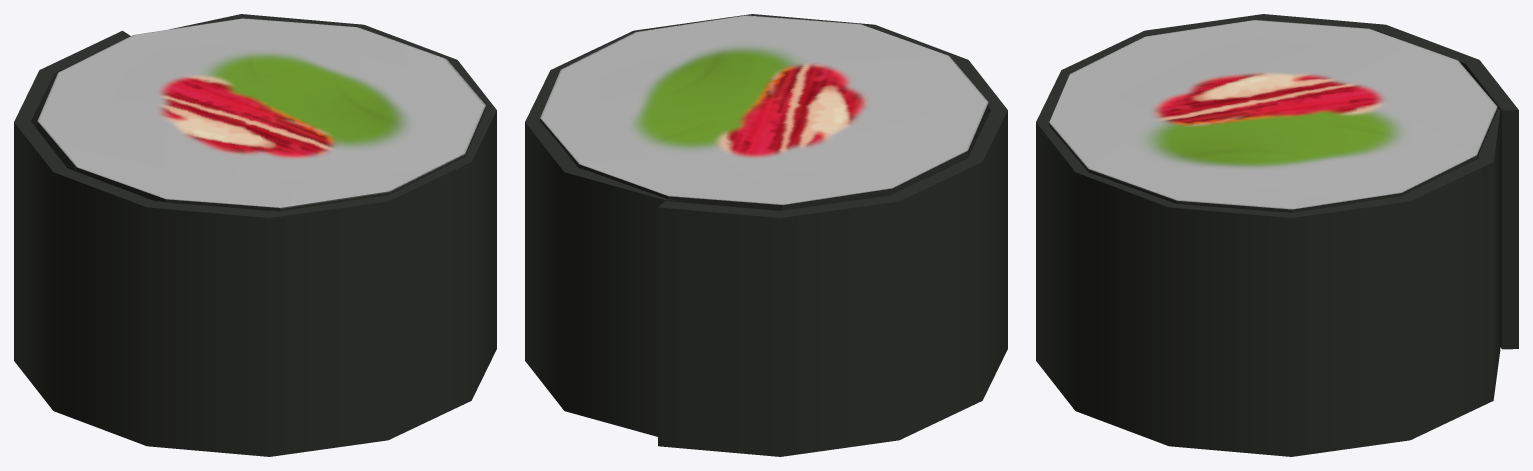
Rendered from Somon Salatalık Chumakisa_K.fbx.
3 views of the same model, side by side, from view 1: azimuth 30°, elevation 25°; view 2: azimuth 150°, elevation 25°; view 3: azimuth 270°, elevation 25° (orthographic).
Visible parts, largest first — view 1: Somon Salatalık Chumakisa; view 2: Somon Salatalık Chumakisa; view 3: Somon Salatalık Chumakisa.
Boxes of the visible parts, box(x1,y1,x2,y2) form: Somon Salatalık Chumakisa: box(14, 14, 496, 456); Somon Salatalık Chumakisa: box(525, 14, 1007, 456); Somon Salatalık Chumakisa: box(1036, 14, 1518, 456).
Bounding box in the file's own units: 4.95 × 2.77 × 4.95.
